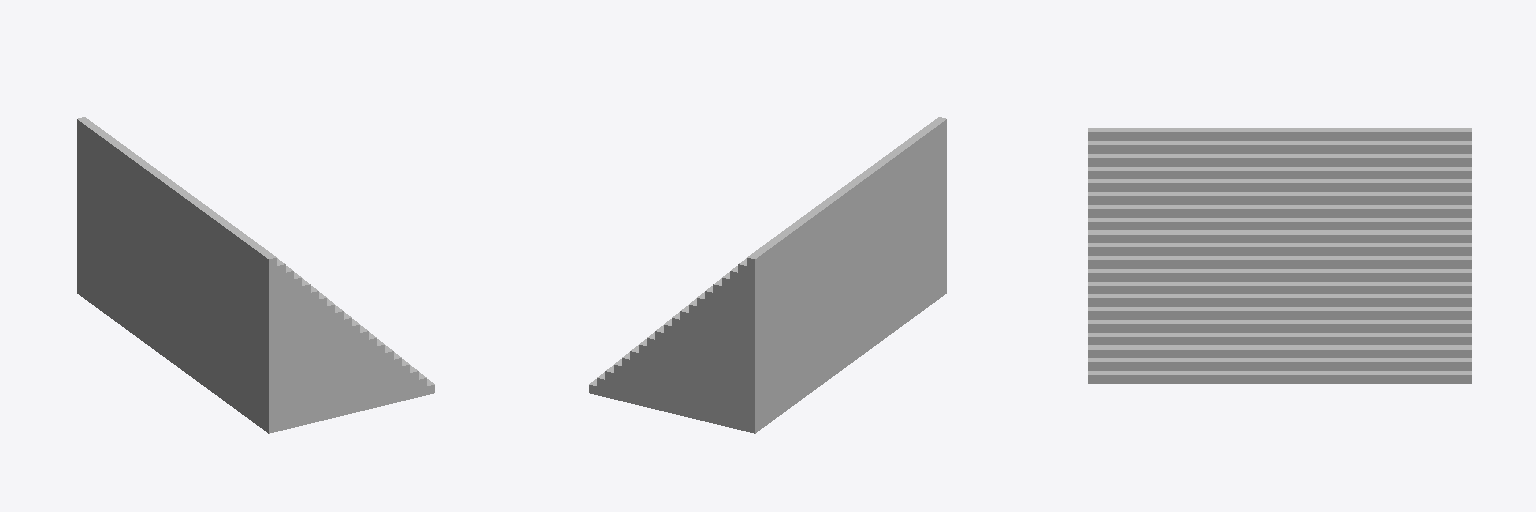
The model's file is Stairs.obj.
3 renders of one model, left to right at view 1: azimuth 30°, elevation 25°; view 2: azimuth 150°, elevation 25°; view 3: azimuth 270°, elevation 25°, orthographic.
Visible parts, largest first — view 1: pCube66; view 2: pCube66; view 3: pCube66.
Boxes of the visible parts, <box> form: pCube66: <box>77,117,434,433</box>; pCube66: <box>589,117,946,433</box>; pCube66: <box>1088,128,1471,383</box>.
Bounding box in the file's own units: 5 × 5 × 10.